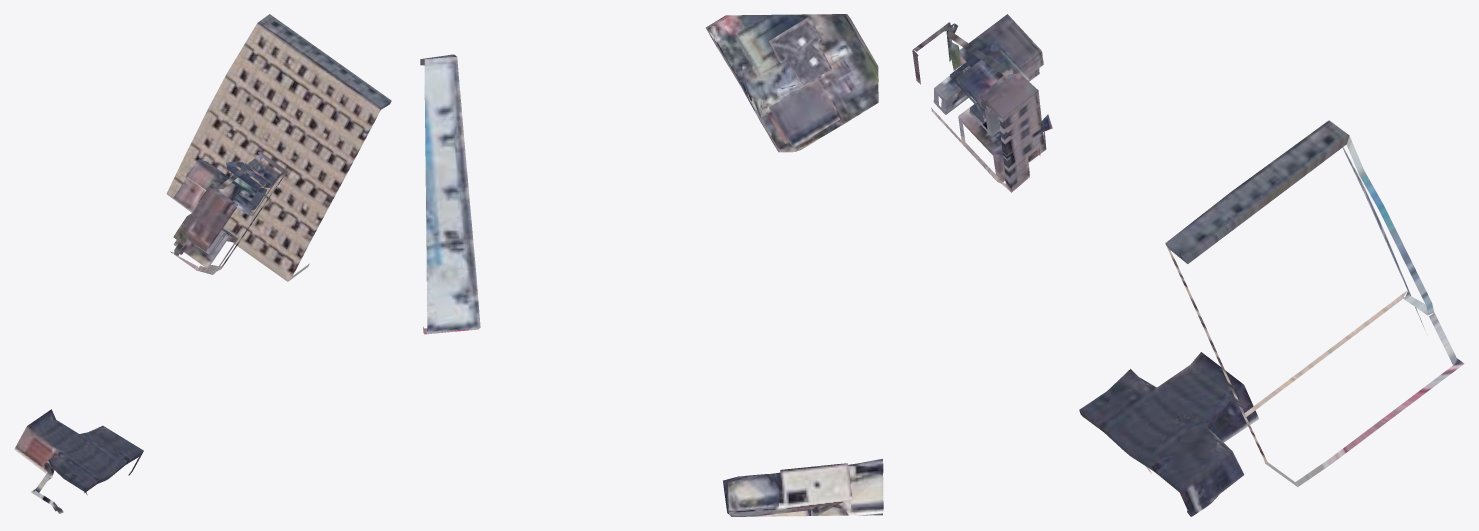
The picture shows the model from 3 angles, left to right: view 1: azimuth 30°, elevation 25°; view 2: azimuth 150°, elevation 25°; view 3: azimuth 270°, elevation 25°; orthographic projection. The views are drawn at different scales.
Size of the model in its own units: 78.88 by 75.59 by 73.11.
1 material, 1 textured.
